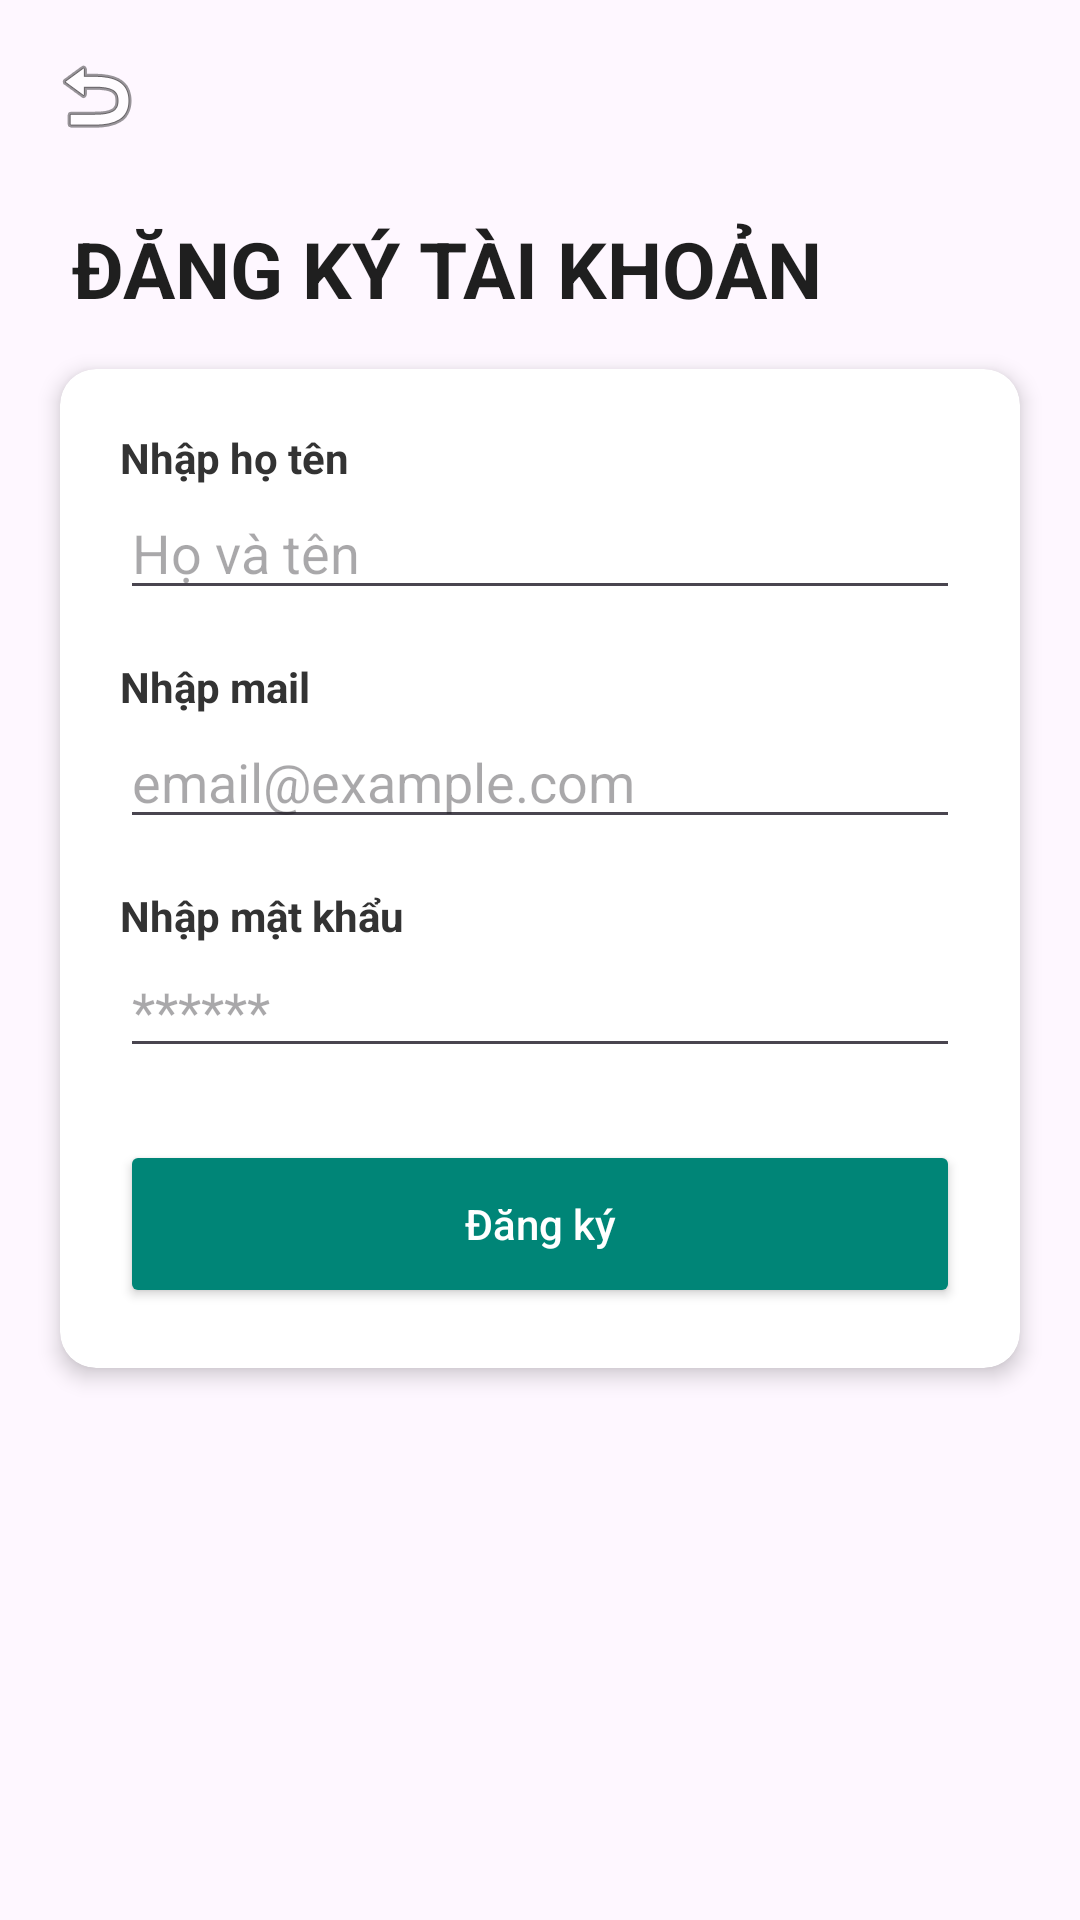

Icons on this 1080*1920 Android screen, each with its box as (left=x1, top=y1, right=x2, bottom=y2):
Quay lại: (left=63, top=65, right=132, bottom=128)
